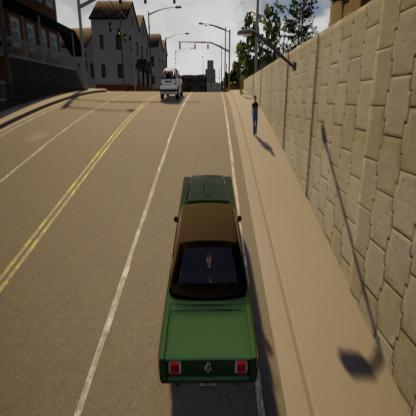Cars: (150, 170, 266, 396), (158, 63, 188, 107)
Pedestrian: (248, 91, 263, 142), (238, 66, 246, 97)
